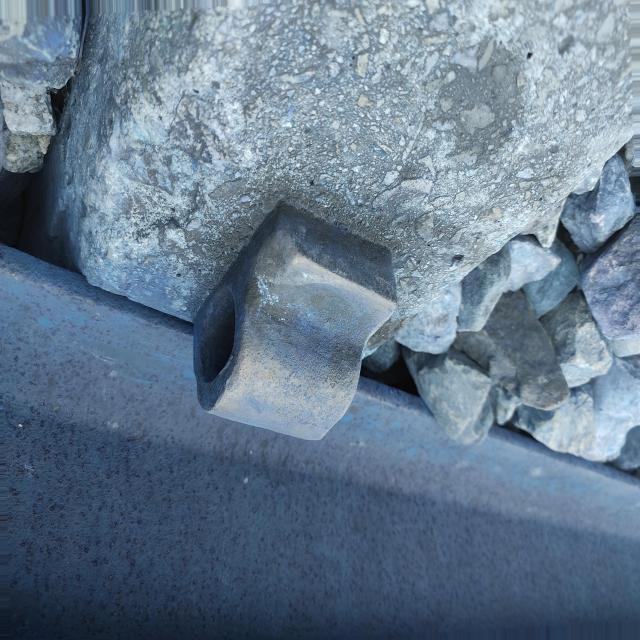Missing Fastener: (176, 181, 443, 453)
